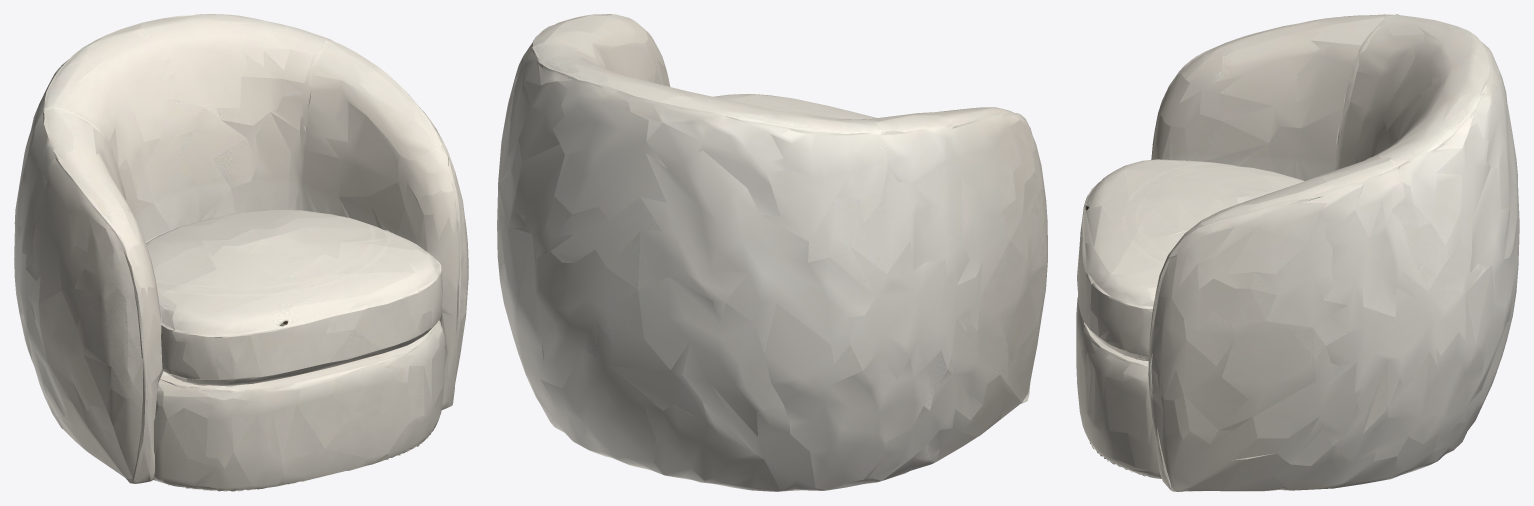
File: lounge.glb
3 renders of one model, left to right at view 1: azimuth 30°, elevation 25°; view 2: azimuth 150°, elevation 25°; view 3: azimuth 270°, elevation 25°, orthographic. The views are drawn at different scales.
Size of the model in its own units: 1.9 by 1.61 by 1.8.
1 material, 1 textured.
